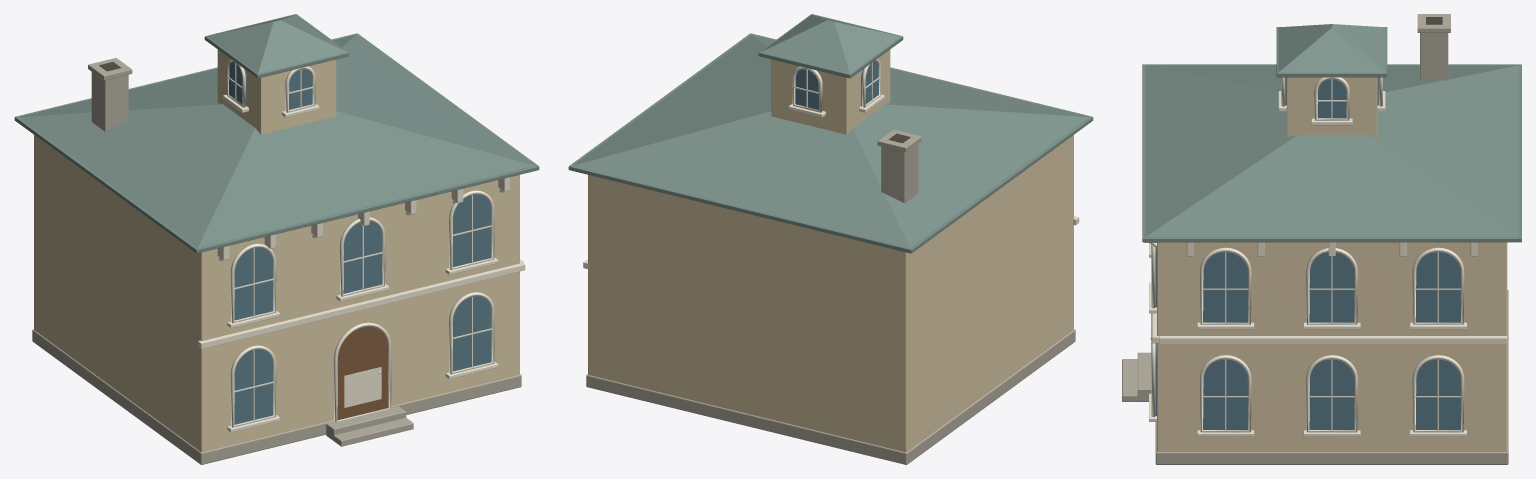
The model's file is medium_italianate.glb.
The picture shows the model from 3 angles, left to right: view 1: azimuth 30°, elevation 25°; view 2: azimuth 150°, elevation 25°; view 3: azimuth 270°, elevation 25°; orthographic projection. The views are drawn at different scales.
Parts seen in each view (by area): view 1: Italianate square closed wall body, Italianate low-pitched solid hip roof, Italianate foundation, Italianate cupola solid hip roof, Italianate square cupola body, Italianate low-pitched closed eave fascia, Italianate arched double-width entrance inset pane, Italianate front string course, Italianate lower tall round-top sash inset pane, Italianate lower tall round-top sash inset pane.001, Italianate upper tall sash inset pane, Italianate upper tall sash inset pane.002 (+14 smaller); view 2: Italianate square closed wall body, Italianate low-pitched solid hip roof, Italianate foundation, Italianate cupola solid hip roof, Italianate square cupola body, Italianate low-pitched closed eave fascia, Italianate rear chimney chimney shaft, Italianate cupola closed eave fascia, Italianate cupola arched opening inset pane.002, Italianate rear chimney chimney cap; view 3: Italianate low-pitched solid hip roof, Italianate square closed wall body, Italianate cupola solid hip roof, Italianate foundation, Italianate low-pitched closed eave fascia, Italianate square cupola body, Italianate side sash inset pane.002, Italianate side sash inset pane.003, Italianate side sash inset pane.001, Italianate side sash inset pane.005, Italianate side sash inset pane, Italianate side sash inset pane.004 (+14 smaller).
Part boxes in pixels (x1,y1,x2,y2): Italianate square closed wall body: (34, 135, 519, 452); Italianate low-pitched solid hip roof: (19, 35, 534, 247); Italianate foundation: (32, 329, 521, 464); Italianate cupola solid hip roof: (207, 14, 346, 75); Italianate square cupola body: (217, 49, 336, 134); Italianate low-pitched closed eave fascia: (14, 33, 539, 253); Italianate arched double-width entrance inset pane: (337, 326, 388, 420); Italianate front string course: (198, 262, 525, 348); Italianate lower tall round-top sash inset pane: (234, 349, 273, 424); Italianate lower tall round-top sash inset pane.001: (452, 296, 491, 371); Italianate upper tall sash inset pane: (234, 247, 273, 320); Italianate upper tall sash inset pane.002: (452, 194, 491, 267); Italianate square closed wall body: (588, 135, 1073, 452); Italianate low-pitched solid hip roof: (573, 35, 1088, 247); Italianate foundation: (586, 329, 1075, 464); Italianate cupola solid hip roof: (761, 14, 900, 75); Italianate square cupola body: (771, 49, 890, 134); Italianate low-pitched closed eave fascia: (568, 33, 1093, 253); Italianate rear chimney chimney shaft: (881, 144, 918, 203); Italianate cupola closed eave fascia: (758, 14, 903, 78); Italianate cupola arched opening inset pane.002: (795, 69, 818, 109); Italianate rear chimney chimney cap: (877, 129, 921, 152); Italianate low-pitched solid hip roof: (1145, 65, 1518, 236); Italianate square closed wall body: (1157, 242, 1507, 451); Italianate cupola solid hip roof: (1278, 24, 1385, 72); Italianate foundation: (1155, 289, 1508, 464); Italianate low-pitched closed eave fascia: (1142, 64, 1521, 242); Italianate square cupola body: (1286, 77, 1377, 136); Italianate side sash inset pane.002: (1309, 359, 1354, 429); Italianate side sash inset pane.003: (1309, 252, 1354, 322); Italianate side sash inset pane.001: (1203, 252, 1248, 322); Italianate side sash inset pane.005: (1415, 252, 1460, 322); Italianate side sash inset pane: (1203, 359, 1248, 429); Italianate side sash inset pane.004: (1415, 359, 1460, 429).
Bounding box in the file's own units: 9.9 × 9.47 × 9.58.
